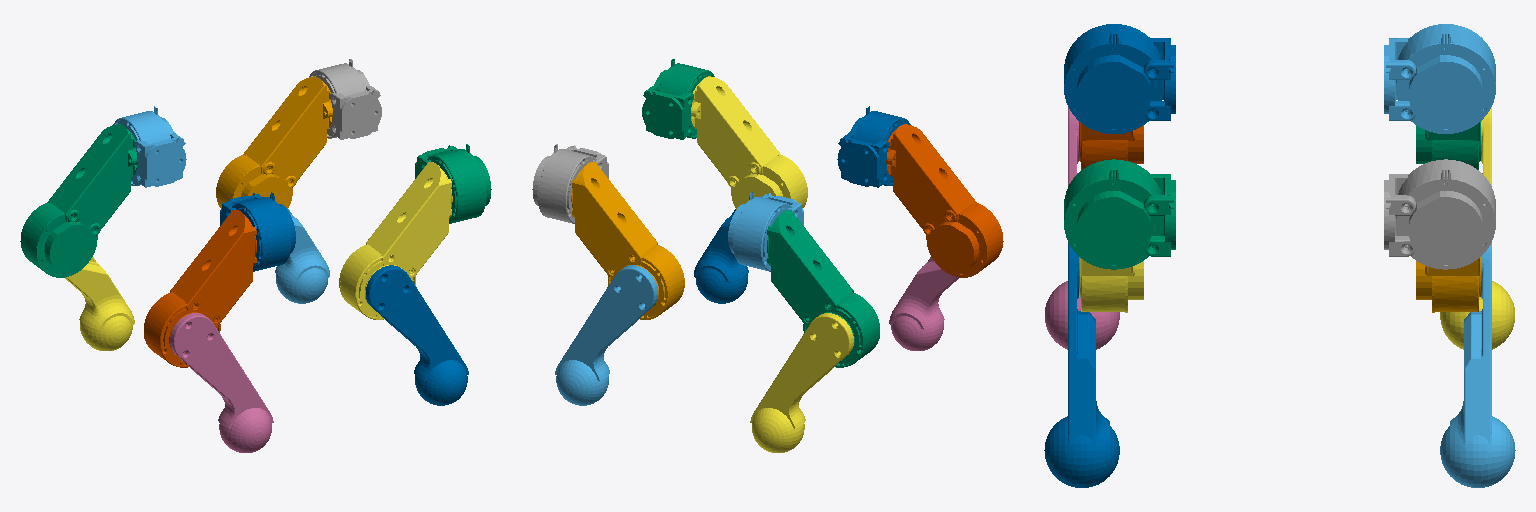
URDF robot description (pupper_v3):
<?xml version="1.0"?>
<!-- created with Phobos 1.0.1 "Capricious Choutengan" -->
  <robot name="pupper_v3">

    <link name="base_link">
      <inertial>
        <origin xyz="9e-05 0 0.02177" rpy="0 0 0"/>
        <mass value="1.2"/>
        <inertia ixx="0.005" ixy="0" ixz="0" iyy="0.005" iyz="0" izz="0.005"/>
      </inertial>
      <visual name="ProtoAssembly-MGv25.004">
        <origin xyz="-0.0019 -0.00027 0.02901" rpy="1.5708 0 0"/>
        <geometry>
          <mesh filename="package://pupper_rviz/meshes/dae/ProtoAssembly-MGv25.004.dae" scale="1.0 1.0 1.0"/>
        </geometry>
      </visual>
      <collision name="ProtoAssembly-MG v25.004">
        <origin xyz="9e-05 0 0.02177" rpy="1.5708 0 0"/>
        <geometry>
          <box size="0.24018 0.10194 0.115"/>
        </geometry>
      </collision>
    </link>

    <link name="leg_back_l_1">
      <inertial>
        <origin xyz="0.00263 8e-05 0.03455" rpy="0 0 0"/>
        <mass value="0.16"/>
        <inertia ixx="2e-05" ixy="0" ixz="0" iyy="2e-05" iyz="0" izz="2e-05"/>
      </inertial>
      <visual name="ProtoAssembly-MGv25.016">
        <origin xyz="0.00263 8e-05 0.03455" rpy="0 0 0"/>
        <geometry>
          <mesh filename="package://pupper_rviz/meshes/dae/ProtoAssembly-MGv25.016.dae" scale="1.0 1.0 1.0"/>
        </geometry>
      </visual>
    </link>

    <link name="leg_back_l_2">
      <inertial>
        <origin xyz="0.0461 0.00255 -0.05754" rpy="0 0 0"/>
        <mass value="0.02"/>
        <inertia ixx="2e-05" ixy="0" ixz="0" iyy="2e-05" iyz="0" izz="2e-05"/>
      </inertial>
      <visual name="ProtoAssembly-MGv25.014">
        <origin xyz="0.0461 0.00255 -0.05754" rpy="-1.5708 -1.5708 0"/>
        <geometry>
          <mesh filename="package://pupper_rviz/meshes/dae/ProtoAssembly-MGv25.014.dae" scale="1.0 1.0 1.0"/>
        </geometry>
      </visual>
    </link>

    <link name="leg_back_l_3">
      <inertial>
        <origin xyz="-0.08114 0.0073 -0.01746" rpy="0 0 0"/>
        <mass value="0.045"/>
        <inertia ixx="2e-05" ixy="0" ixz="0" iyy="2e-05" iyz="0" izz="4e-05"/>
      </inertial>
      <visual name="ProtoAssembly-MGv25.015">
        <origin xyz="-0.08114 0.0073 -0.01746" rpy="0 3.14159 0"/>
        <geometry>
          <mesh filename="package://pupper_rviz/meshes/dae/ProtoAssembly-MGv25.015.dae" scale="1.0 1.0 1.0"/>
        </geometry>
      </visual>
      <collision name="ProtoAssembly-MGv25.017">
        <origin xyz="-0.09946 0.0107 -0.0169" rpy="0 3.14159 0"/>
        <geometry>
          <sphere radius="0.01984"/>
        </geometry>
      </collision>
    </link>

    <link name="leg_back_r_1">
      <inertial>
        <origin xyz="0.00272 -1e-05 0.03409" rpy="0 0 0"/>
        <mass value="0.16"/>
        <inertia ixx="2e-05" ixy="0" ixz="0" iyy="2e-05" iyz="0" izz="2e-05"/>
      </inertial>
      <visual name="ProtoAssembly-MGv25.008">
        <origin xyz="0.00272 -1e-05 0.03409" rpy="0 0 0"/>
        <geometry>
          <mesh filename="package://pupper_rviz/meshes/dae/ProtoAssembly-MGv25.012.dae" scale="1.0 1.0 1.0"/>
        </geometry>
      </visual>
    </link>

    <link name="leg_back_r_2">
      <inertial>
        <origin xyz="-0.04555 -0.00233 0.05745" rpy="0 0 0"/>
        <mass value="0.02"/>
        <inertia ixx="2e-05" ixy="0" ixz="0" iyy="2e-05" iyz="0" izz="2e-05"/>
      </inertial>
      <visual name="ProtoAssembly-MGv25.006">
        <origin xyz="-0.04555 -0.00233 0.05745" rpy="1.5708 1.5708 0"/>
        <geometry>
          <mesh filename="package://pupper_rviz/meshes/dae/ProtoAssembly-MGv25.010.dae" scale="1.0 1.0 1.0"/>
        </geometry>
      </visual>
    </link>

    <link name="leg_back_r_3">
      <inertial>
        <origin xyz="0.08114 -0.0073 0.01746" rpy="0 0 0"/>
        <mass value="0.045"/>
        <inertia ixx="2e-05" ixy="0" ixz="0" iyy="2e-05" iyz="0" izz="2e-05"/>
      </inertial>
      <visual name="ProtoAssembly-MGv25.007">
        <origin xyz="0.08114 -0.0073 0.01746" rpy="0 0 0"/>
        <geometry>
          <mesh filename="package://pupper_rviz/meshes/dae/ProtoAssembly-MGv25.011.dae" scale="1.0 1.0 1.0"/>
        </geometry>
      </visual>
      <collision name="ProtoAssembly-MGv25.009">
        <origin xyz="0.09946 -0.0107 0.0169" rpy="0 0 0"/>
        <geometry>
          <sphere radius="0.01984"/>
        </geometry>
      </collision>
    </link>

    <link name="leg_front_l_1">
      <inertial>
        <origin xyz="0.00263 8e-05 0.03455" rpy="0 0 0"/>
        <mass value="0.16"/>
        <inertia ixx="2e-05" ixy="0" ixz="0" iyy="2e-05" iyz="0" izz="2e-05"/>
      </inertial>
      <visual name="ProtoAssembly-MGv25.012">
        <origin xyz="0.00263 8e-05 0.03455" rpy="0 0 0"/>
        <geometry>
          <mesh filename="package://pupper_rviz/meshes/dae/ProtoAssembly-MGv25.003.dae" scale="1.0 1.0 1.0"/>
        </geometry>
      </visual>
    </link>

    <link name="leg_front_l_2">
      <inertial>
        <origin xyz="0.0461 0.00255 -0.05754" rpy="0 0 0"/>
        <mass value="0.17"/>
        <inertia ixx="2e-05" ixy="0" ixz="0" iyy="2e-05" iyz="0" izz="2e-05"/>
      </inertial>
      <visual name="ProtoAssembly-MGv25.010">
        <origin xyz="0.0461 0.00255 -0.05754" rpy="-1.5708 -1.5708 0"/>
        <geometry>
          <mesh filename="package://pupper_rviz/meshes/dae/ProtoAssembly-MGv25.001.dae" scale="1.0 1.0 1.0"/>
        </geometry>
      </visual>
    </link>

    <link name="leg_front_l_3">
      <inertial>
        <origin xyz="-0.08114 0.0073 -0.01746" rpy="0 0 0"/>
        <mass value="0.045"/>
        <inertia ixx="2e-05" ixy="0" ixz="0" iyy="2e-05" iyz="0" izz="2e-05"/>
      </inertial>
      <visual name="ProtoAssembly-MGv25.011">
        <origin xyz="-0.08114 0.0073 -0.01746" rpy="0 3.14159 0"/>
        <geometry>
          <mesh filename="package://pupper_rviz/meshes/dae/ProtoAssembly-MGv25.002.dae" scale="1.0 1.0 1.0"/>
        </geometry>
      </visual>
      <collision name="ProtoAssembly-MGv25.013">
        <origin xyz="-0.09946 0.0107 -0.0169" rpy="0 3.14159 0"/>
        <geometry>
          <sphere radius="0.01984"/>
        </geometry>
      </collision>
    </link>

    <link name="leg_front_r_1">
      <inertial>
        <origin xyz="0.00272 -1e-05 0.03409" rpy="0 0 0"/>
        <mass value="0.16"/>
        <inertia ixx="2e-05" ixy="0" ixz="0" iyy="2e-05" iyz="0" izz="2e-05"/>
      </inertial>
      <visual name="ProtoAssembly-MGv25.003">
        <origin xyz="0.00272 -1e-05 0.03409" rpy="0 0 0"/>
        <geometry>
          <mesh filename="package://pupper_rviz/meshes/dae/ProtoAssembly-MGv25.007.dae" scale="1.0 1.0 1.0"/>
        </geometry>
      </visual>
    </link>

    <link name="leg_front_r_2">
      <inertial>
        <origin xyz="-0.04555 -0.00233 0.05745" rpy="0 0 0"/>
        <mass value="0.02"/>
        <inertia ixx="2e-05" ixy="0" ixz="0" iyy="2e-05" iyz="0" izz="4e-05"/>
      </inertial>
      <visual name="ProtoAssembly-MGv25.001">
        <origin xyz="-0.04555 -0.00233 0.05745" rpy="1.5708 1.5708 0"/>
        <geometry>
          <mesh filename="package://pupper_rviz/meshes/dae/ProtoAssembly-MGv25.005.dae" scale="1.0 1.0 1.0"/>
        </geometry>
      </visual>
    </link>

    <link name="leg_front_r_3">
      <inertial>
        <origin xyz="0.08114 -0.0073 0.01746" rpy="0 0 0"/>
        <mass value="0.045"/>
        <inertia ixx="2e-05" ixy="0" ixz="0" iyy="2e-05" iyz="0" izz="2e-05"/>
      </inertial>
      <visual name="ProtoAssembly-MGv25.002">
        <origin xyz="0.08114 -0.0073 0.01746" rpy="0 0 0"/>
        <geometry>
          <mesh filename="package://pupper_rviz/meshes/dae/ProtoAssembly-MGv25.006.dae" scale="1.0 1.0 1.0"/>
        </geometry>
      </visual>
      <collision name="ProtoAssembly-MGv25.005">
        <origin xyz="0.09946 -0.0107 0.0169" rpy="0 0 0"/>
        <geometry>
          <sphere radius="0.01984"/>
        </geometry>
      </collision>
    </link>

    <joint name="leg_back_l_1" type="revolute">
      <origin xyz="-0.085 0.05 0" rpy="-1.5708 0 0"/>
      <parent link="base_link"/>
      <child link="leg_back_l_1"/>
      <axis xyz="0 0 1.0"/>
      <limit lower="-2.87979" upper="2.35619" effort="3.7" velocity="47.12389"/>
    </joint>

    <joint name="leg_back_l_2" type="revolute">
      <origin xyz="0 0 0.038" rpy="1.5708 0 1.5708"/>
      <parent link="leg_back_l_1"/>
      <child link="leg_back_l_2"/>
      <axis xyz="0 0 -1.0"/>
      <limit lower="-1.5708" upper="0.69813" effort="3.7" velocity="47.12389"/>
    </joint>

    <joint name="leg_back_l_3" type="revolute">
      <origin xyz="0.0607 0 -0.07062" rpy="1.5708 2.53073 0"/>
      <parent link="leg_back_l_2"/>
      <child link="leg_back_l_3"/>
      <axis xyz="0 0 -1.0"/>
      <limit lower="-1.20428" upper="3.14159" effort="3.7" velocity="47.12389"/>
    </joint>

    <joint name="leg_back_r_1" type="revolute">
      <origin xyz="-0.085 -0.05 0" rpy="1.5708 0 0"/>
      <parent link="base_link"/>
      <child link="leg_back_r_1"/>
      <axis xyz="0 0 1.0"/>
      <limit lower="-2.35619" upper="2.87979" effort="3.7" velocity="47.12389"/>
    </joint>

    <joint name="leg_back_r_2" type="revolute">
      <origin xyz="0 0 0.038" rpy="-1.5708 0 1.5708"/>
      <parent link="leg_back_r_1"/>
      <child link="leg_back_r_2"/>
      <axis xyz="0 0 1.0"/>
      <limit lower="-0.69813" upper="1.5708" effort="3.7" velocity="47.12389"/>
    </joint>

    <joint name="leg_back_r_3" type="revolute">
      <origin xyz="-0.0607 0 0.07062" rpy="1.5708 2.53073 0"/>
      <parent link="leg_back_r_2"/>
      <child link="leg_back_r_3"/>
      <axis xyz="0 0 1.0"/>
      <limit lower="-3.14159" upper="1.20428" effort="3.7" velocity="47.12389"/>
    </joint>

    <joint name="leg_front_l_1" type="revolute">
      <origin xyz="0.085 0.05 0" rpy="-1.5708 0 0"/>
      <parent link="base_link"/>
      <child link="leg_front_l_1"/>
      <axis xyz="0 0 1.0"/>
      <limit lower="-2.87979" upper="2.35619" effort="3.7" velocity="47.12389"/>
    </joint>

    <joint name="leg_front_l_2" type="revolute">
      <origin xyz="0 0 0.038" rpy="1.5708 0 1.5708"/>
      <parent link="leg_front_l_1"/>
      <child link="leg_front_l_2"/>
      <axis xyz="0 0 -1.0"/>
      <limit lower="-1.5708" upper="0.69813" effort="3.7" velocity="47.12389"/>
    </joint>

    <joint name="leg_front_l_3" type="revolute">
      <origin xyz="0.0607 0 -0.07062" rpy="1.5708 2.53073 0"/>
      <parent link="leg_front_l_2"/>
      <child link="leg_front_l_3"/>
      <axis xyz="0 0 -1.0"/>
      <limit lower="-1.20428" upper="3.14159" effort="3.7" velocity="47.12389"/>
    </joint>

    <joint name="leg_front_r_1" type="revolute">
      <origin xyz="0.085 -0.05 0" rpy="1.5708 0 0"/>
      <parent link="base_link"/>
      <child link="leg_front_r_1"/>
      <axis xyz="0 0 1.0"/>
      <limit lower="-2.35619" upper="2.87979" effort="3.7" velocity="47.12389"/>
    </joint>

    <joint name="leg_front_r_2" type="revolute">
      <origin xyz="0 0 0.038" rpy="-1.5708 0 1.5708"/>
      <parent link="leg_front_r_1"/>
      <child link="leg_front_r_2"/>
      <axis xyz="0 0 1.0"/>
      <limit lower="-0.69813" upper="1.5708" effort="3.7" velocity="47.12389"/>
    </joint>

    <joint name="leg_front_r_3" type="revolute">
      <origin xyz="-0.0607 0 0.07062" rpy="1.5708 2.53073 0"/>
      <parent link="leg_front_r_2"/>
      <child link="leg_front_r_3"/>
      <axis xyz="0 0 1.0"/>
      <limit lower="-3.14159" upper="1.20428" effort="3.7" velocity="47.12389"/>
    </joint>

  </robot>

--- Facts derived from the render (not from the file) ---
Views: 3 orthographic renders of the robot side by side, from view 1: azimuth 30°, elevation 25°; view 2: azimuth 150°, elevation 25°; view 3: azimuth 270°, elevation 25°.
Robot: pupper_v3 — 13 links, 12 joints (12 revolute); root link base_link; default pose: every joint at zero.
Links seen in each view (by area): view 1: leg_back_l_2, leg_front_l_2, leg_front_r_2, leg_back_r_2, leg_front_r_3, leg_back_r_3, leg_back_l_3, leg_back_l_1, leg_front_l_1, leg_front_r_1, leg_back_r_1, leg_front_l_3; view 2: leg_back_r_2, leg_front_r_2, leg_front_l_2, leg_back_l_2, leg_front_l_3, leg_back_l_3, leg_back_r_3, leg_back_r_1, leg_front_r_1, leg_front_l_1, leg_back_l_1, leg_front_r_3; view 3: leg_front_l_1, leg_front_r_1, leg_back_r_1, leg_back_l_1, leg_front_l_3, leg_front_r_3, leg_front_l_2, leg_front_r_2, leg_back_l_3, leg_back_r_3, leg_back_l_2, leg_back_r_2.
Link boxes in pixels (left/top/right/bottom): leg_back_l_2: left=20, top=124, right=137, bottom=277; leg_front_l_2: left=216, top=76, right=332, bottom=209; leg_front_r_2: left=339, top=162, right=452, bottom=319; leg_back_r_2: left=144, top=210, right=256, bottom=367; leg_front_r_3: left=366, top=265, right=468, bottom=405; leg_back_r_3: left=170, top=313, right=273, bottom=452; leg_back_l_3: left=65, top=257, right=134, bottom=350; leg_back_l_1: left=113, top=106, right=186, bottom=187; leg_front_l_1: left=309, top=59, right=381, bottom=139; leg_front_r_1: left=415, top=144, right=491, bottom=223; leg_back_r_1: left=220, top=192, right=295, bottom=271; leg_front_l_3: left=275, top=209, right=329, bottom=303; leg_back_r_2: left=886, top=124, right=1003, bottom=277; leg_front_r_2: left=691, top=76, right=807, bottom=209; leg_front_l_2: left=571, top=162, right=684, bottom=319; leg_back_l_2: left=767, top=210, right=879, bottom=367; leg_front_l_3: left=555, top=265, right=657, bottom=405; leg_back_l_3: left=750, top=313, right=853, bottom=452; leg_back_r_3: left=889, top=257, right=958, bottom=350; leg_back_r_1: left=837, top=106, right=910, bottom=187; leg_front_r_1: left=642, top=59, right=714, bottom=139; leg_front_l_1: left=532, top=144, right=608, bottom=223; leg_back_l_1: left=728, top=192, right=803, bottom=271; leg_front_r_3: left=694, top=209, right=748, bottom=303; leg_front_l_1: left=1384, top=159, right=1495, bottom=269; leg_front_r_1: left=1064, top=159, right=1175, bottom=269; leg_back_r_1: left=1064, top=24, right=1175, bottom=133; leg_back_l_1: left=1384, top=24, right=1495, bottom=133; leg_front_l_3: left=1440, top=243, right=1515, bottom=487; leg_front_r_3: left=1044, top=243, right=1119, bottom=487; leg_front_l_2: left=1416, top=257, right=1480, bottom=312; leg_front_r_2: left=1079, top=257, right=1143, bottom=312; leg_back_l_3: left=1440, top=107, right=1514, bottom=349; leg_back_r_3: left=1045, top=107, right=1119, bottom=349; leg_back_l_2: left=1416, top=121, right=1480, bottom=169; leg_back_r_2: left=1079, top=121, right=1143, bottom=170.
Bounding box of the posed robot: 0.2868 × 0.2498 × 0.1999 m (x, y, z).
Meshes: 13 distinct files referenced, 12 mesh visuals loaded (12 Collada DAE); not drawn: 1 (reference not matched to a file when rendering).